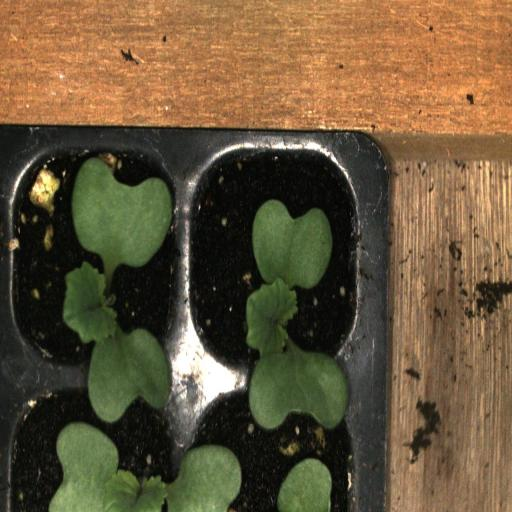seedling: (183, 142, 367, 383), (10, 139, 182, 386), (9, 386, 184, 512)
